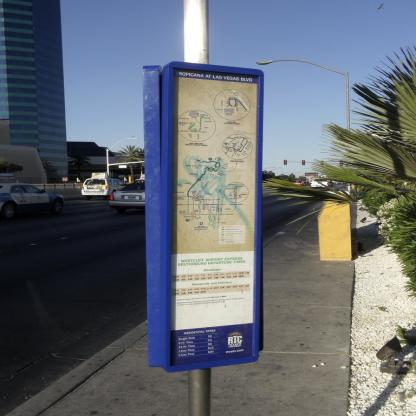Car: (1, 184, 65, 220), (109, 180, 157, 215), (83, 182, 126, 197)
